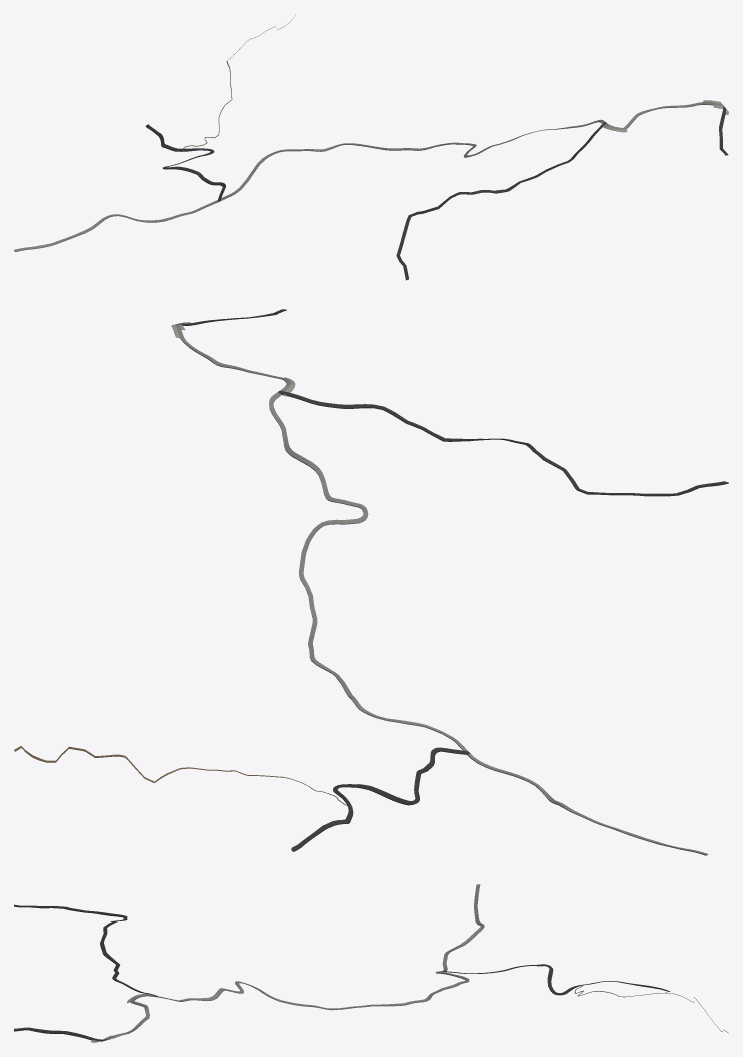
3 views of the same model, one above another, from view 1: azimuth 30°, elevation 25°; view 2: azimuth 150°, elevation 25°; view 3: azimuth 270°, elevation 25° (orthographic). The views are drawn at different scales.
Bounding box in the file's own units: 1175 × 277 × 1166.
